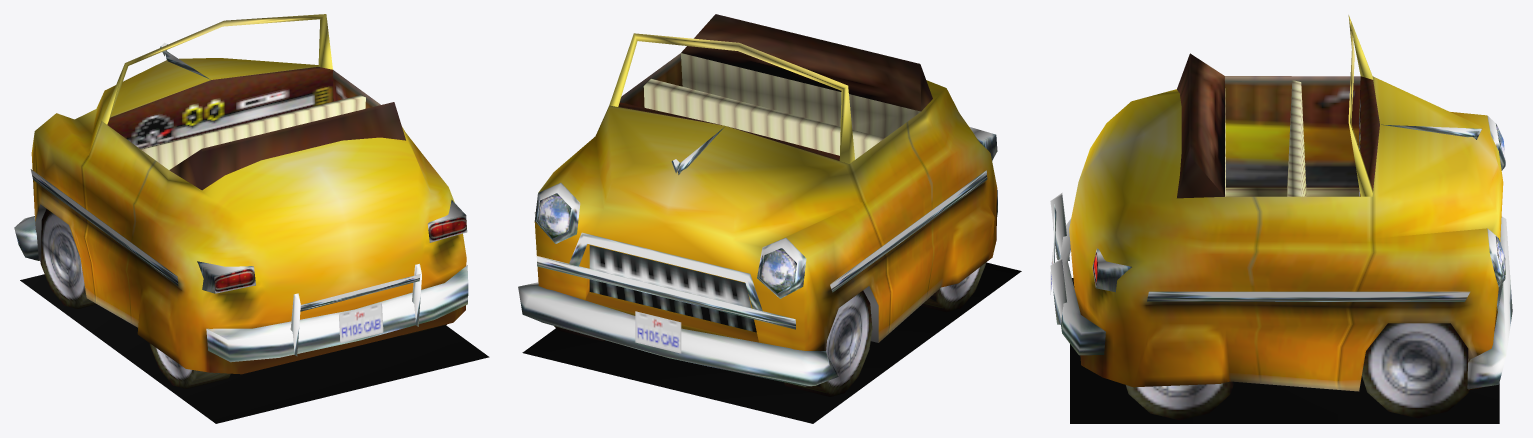
The model's file is slime2.ico.obj.
The picture shows the model from 3 angles, left to right: view 1: azimuth 30°, elevation 25°; view 2: azimuth 150°, elevation 25°; view 3: azimuth 270°, elevation 25°; orthographic projection. The views are drawn at different scales.
Bounding box in the file's own units: 3.7 × 3.31 × 4.66.
1 material, 1 textured.
